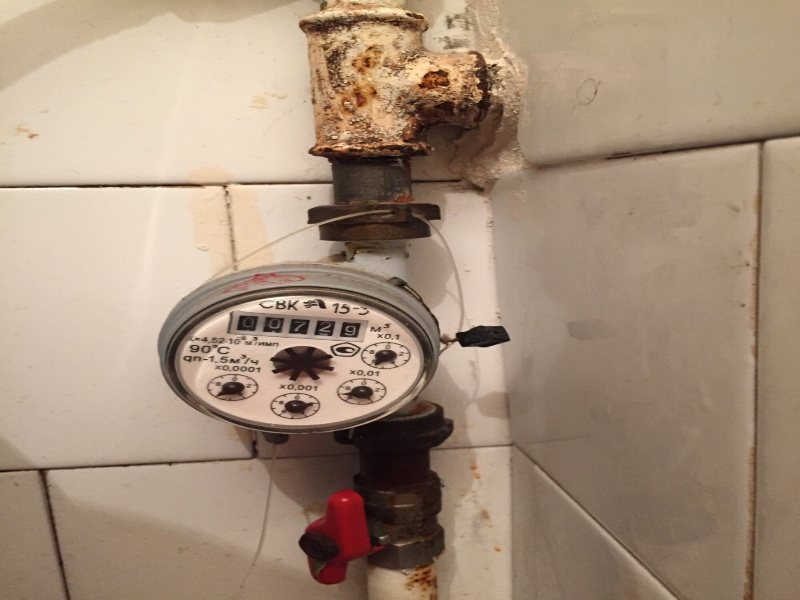meter: (235, 314, 367, 339)
